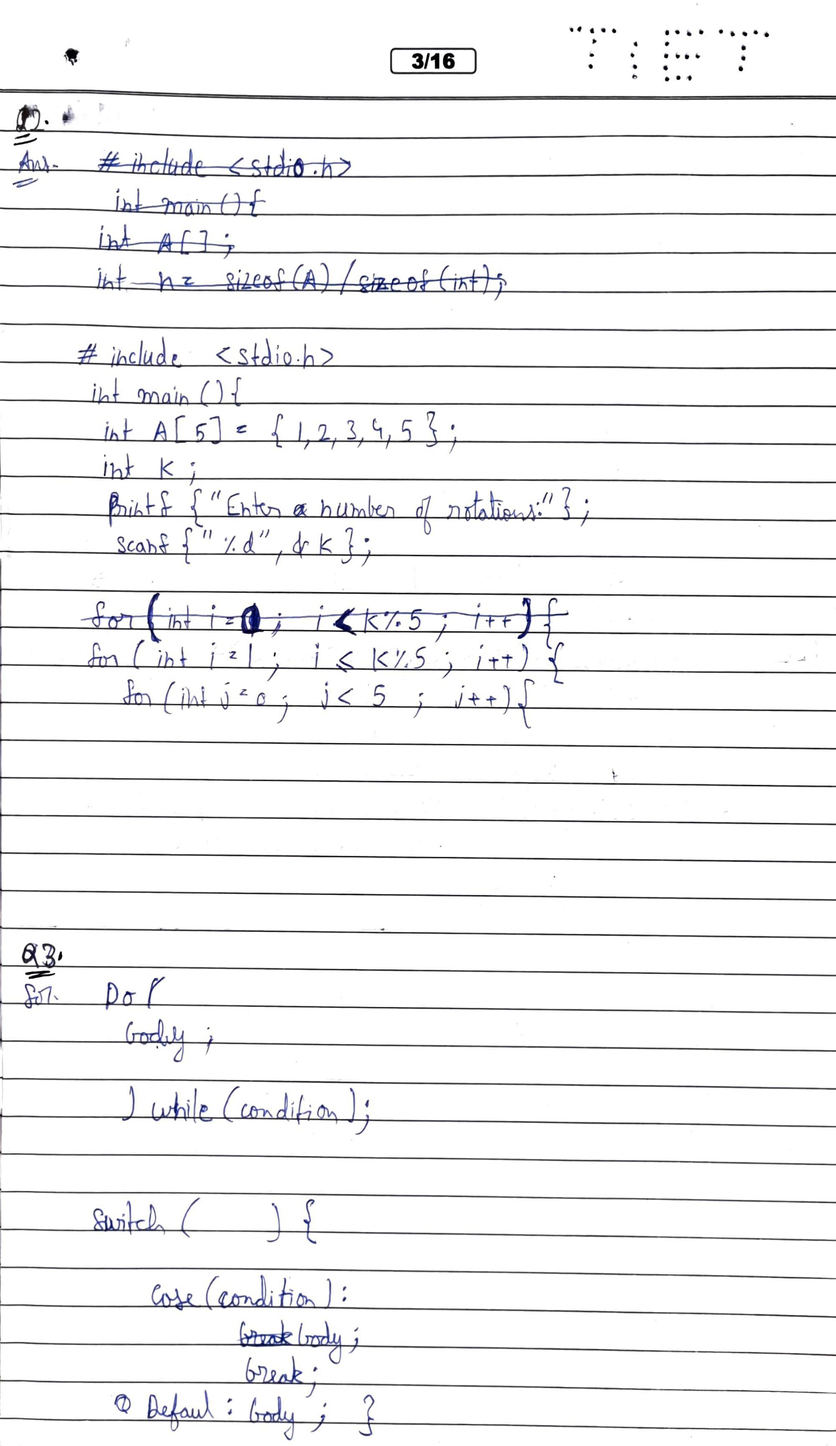cuttings: (90, 142, 511, 305), (79, 589, 576, 651), (237, 1321, 296, 1344), (113, 1393, 132, 1415), (291, 504, 310, 519)
